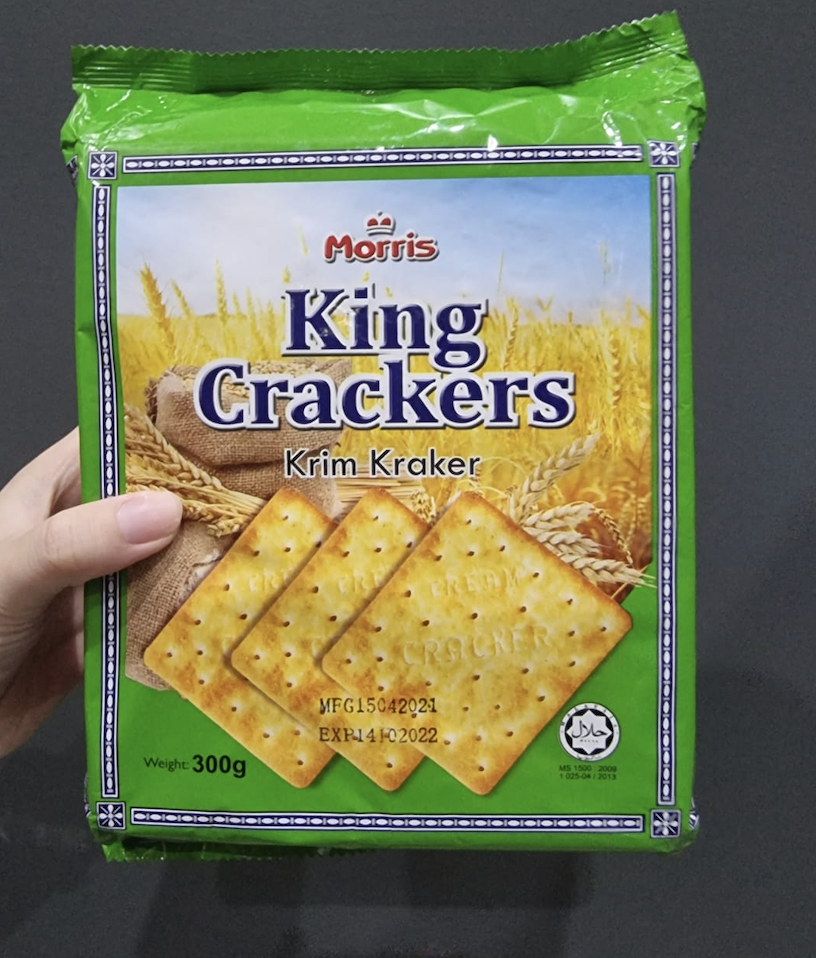Halal: (570, 716, 614, 746)
